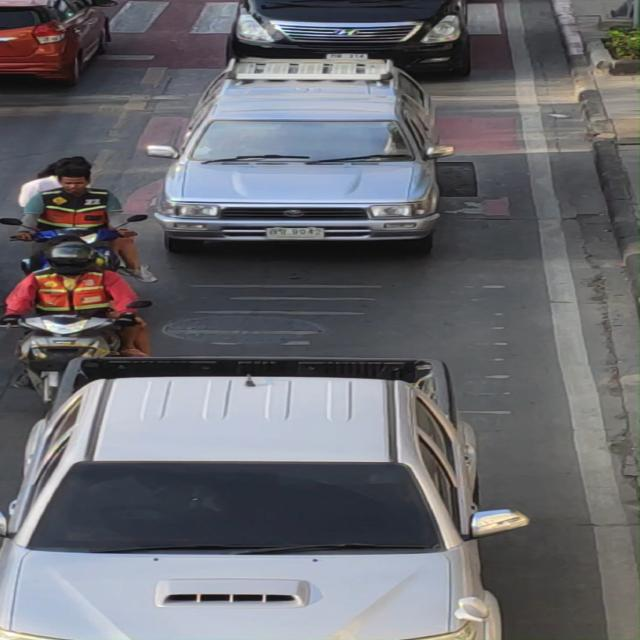car: (14, 348, 543, 640), (137, 64, 456, 260)
